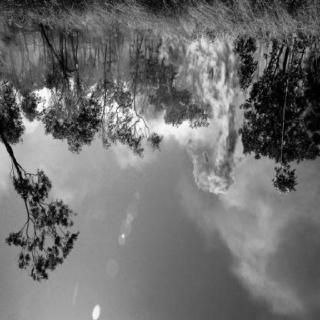Fire: (146, 26, 250, 198), (29, 11, 143, 48), (0, 15, 16, 48)
